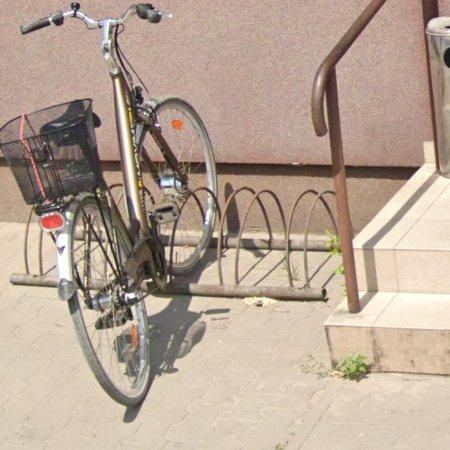bicycles: (0, 2, 218, 406)
